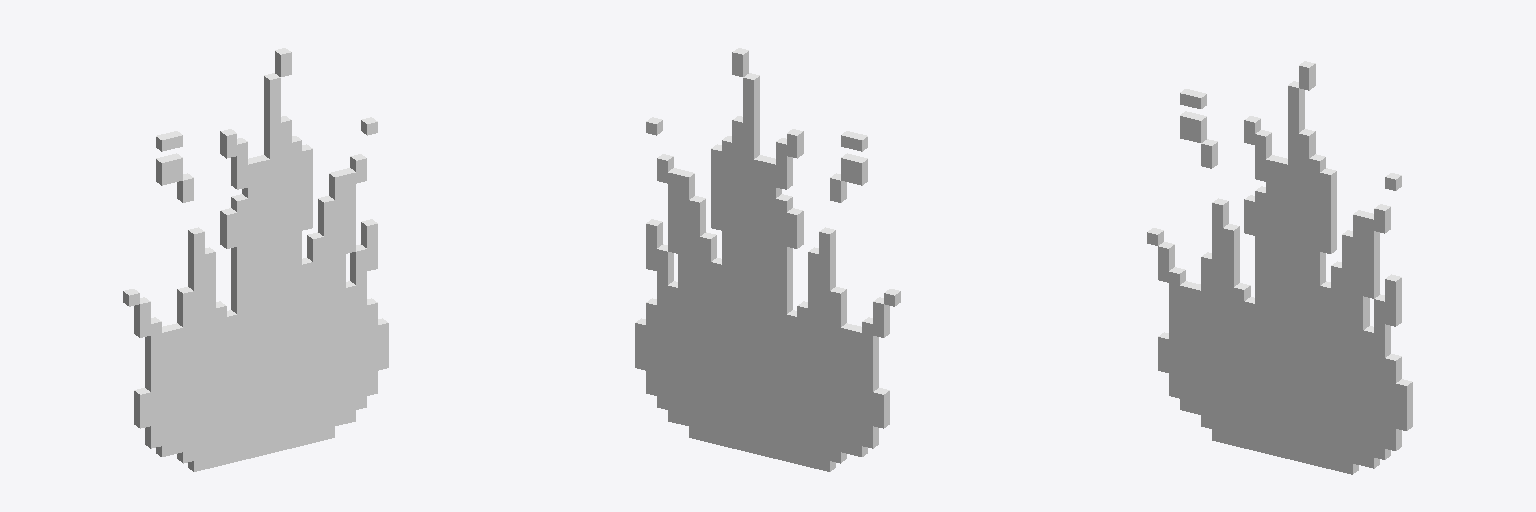
Rendered from fire-essence.obj.
3 views of the same model, side by side, from view 1: azimuth 30°, elevation 25°; view 2: azimuth 150°, elevation 25°; view 3: azimuth 330°, elevation 25° (orthographic).
Parts seen in each view (by area): view 1: fire-essence-icon; view 2: fire-essence-icon; view 3: fire-essence-icon.
Boxes of the visible parts, box(x1,y1,x2,y2) form: fire-essence-icon: box(123, 48, 388, 471); fire-essence-icon: box(635, 48, 900, 471); fire-essence-icon: box(1147, 61, 1412, 474).
Bounding box in the file's own units: 2.4 × 3.5 × 0.1.